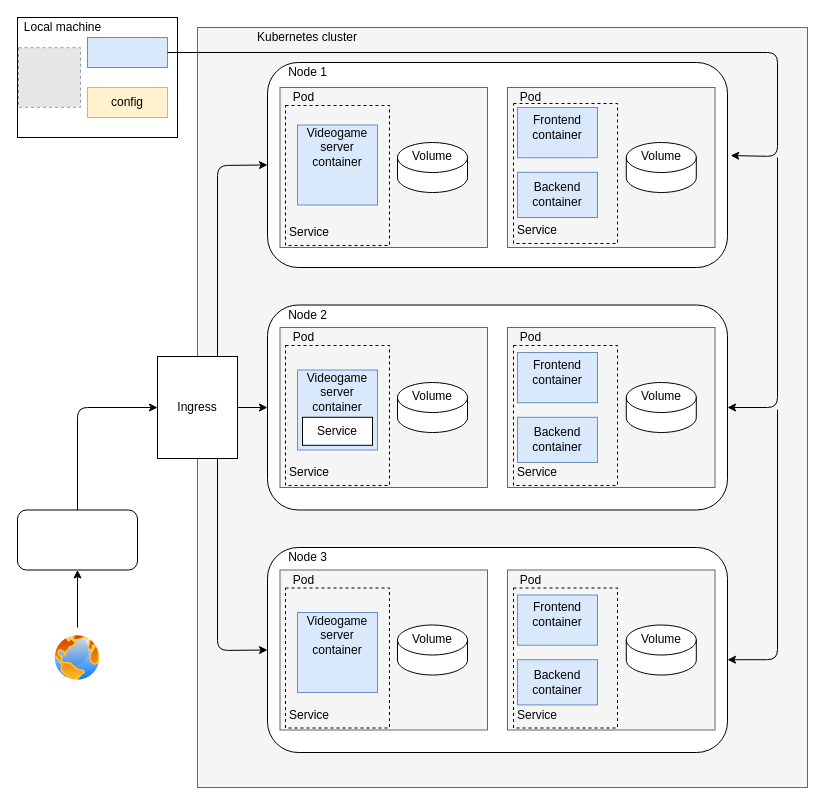
Image size: 825x805. Some labels were removed from this diagram. Grey dashed boxes stand in for pictures. Each missing label, with the centre of its shape:
kubectl: the point at 127,52
Load balancer: the point at 77,539
